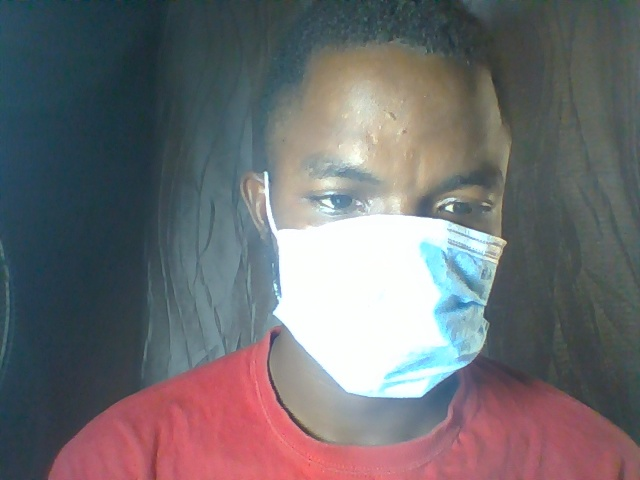MaskOn: (236, 2, 524, 410)
